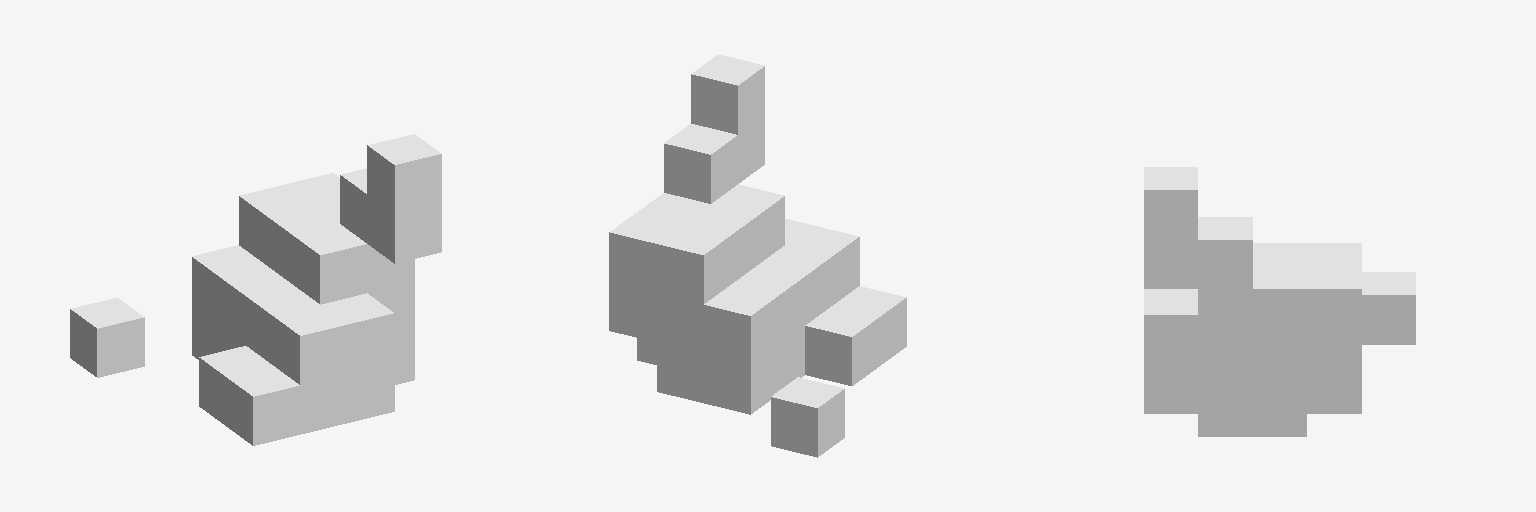
The model's file is des_rock7.obj.
3 views of the same model, side by side, from view 1: azimuth 30°, elevation 25°; view 2: azimuth 150°, elevation 25°; view 3: azimuth 270°, elevation 25° (orthographic).
Parts seen in each view (by area): view 1: object 1; view 2: object 1; view 3: object 1.
Boxes of the visible parts, <box> form: object 1: <box>70,134,441,445</box>; object 1: <box>609,54,906,457</box>; object 1: <box>1144,167,1415,436</box>.
Size of the model in its own units: 0.5 by 0.5 by 0.5.